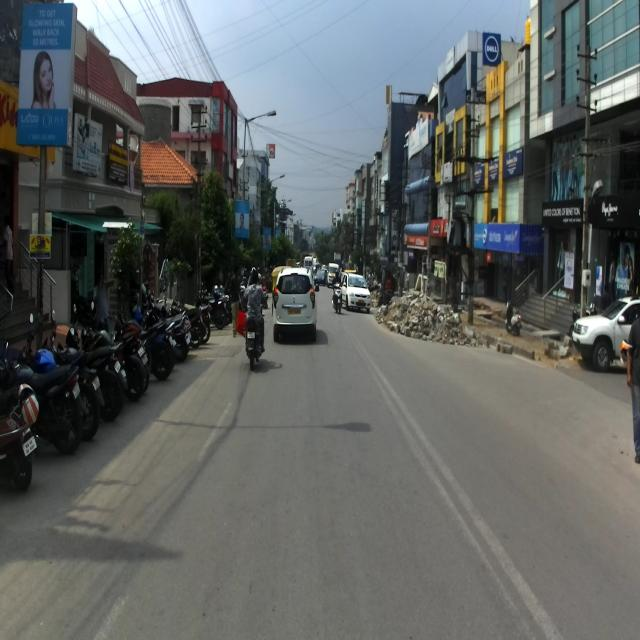car: (572, 290, 640, 372), (272, 266, 316, 343), (339, 272, 371, 312)
motorcycle: (15, 313, 104, 441), (0, 336, 88, 455), (46, 309, 126, 420), (243, 300, 268, 370), (194, 293, 227, 324)
scooter: (0, 372, 41, 491), (504, 298, 522, 336), (331, 282, 343, 313)
